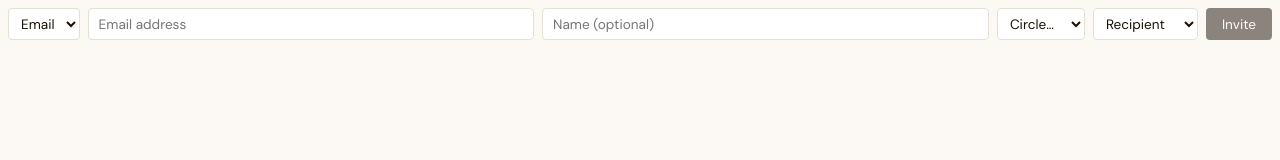
Test: InviteForm — submit button validation › button is enabled when channel is "sms" AND phone is provided AND circle is selected
This screenshot has width=1280, height=160.
Note: Switch to SMS channel
Select "SMS" in the dropdown with class "channel-select" at point(44, 24), box [8,8,80,40]
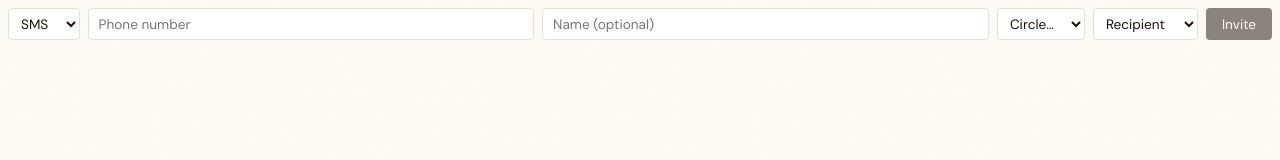
Note: Fill phone
Type "+15550001234" into the field with placeholder "Phone number".
click(311, 24); type("+15550001234")  # box [88,8,534,40]
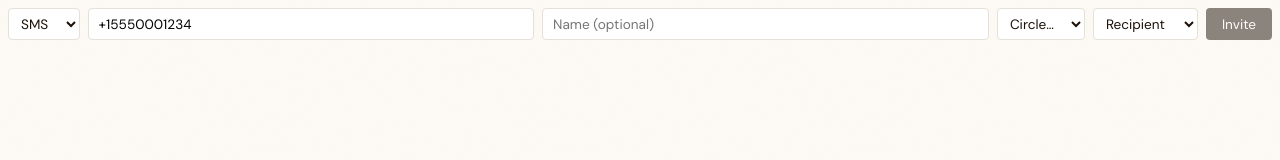
Note: Select a circle
Select "General" in the 2nd dropdown showing "Circle…" at point(1041, 24), box [997,8,1085,40]
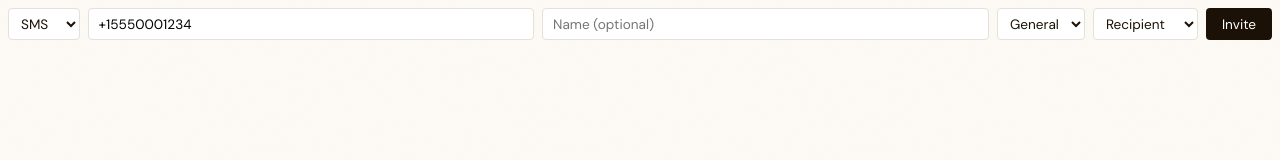
Check: the button "Invite" is enabled, box [1206,8,1272,40]
